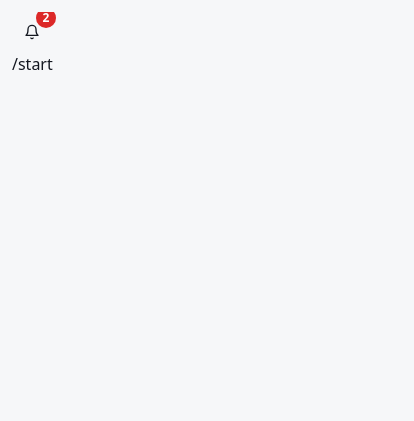
it: NotificationBell interactions › clicking an already-read notification navigates without re-marking
The width and height of the screenshot is (414, 421).
Click the button named "notifications".
click(32, 32)  # box [12,12,52,52]
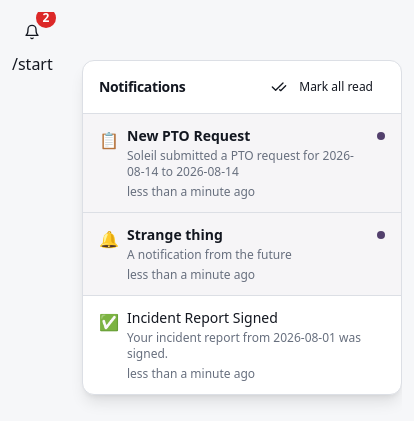
Click the text "Incident Report Signed".
click(202, 318)  # box [127,308,278,327]
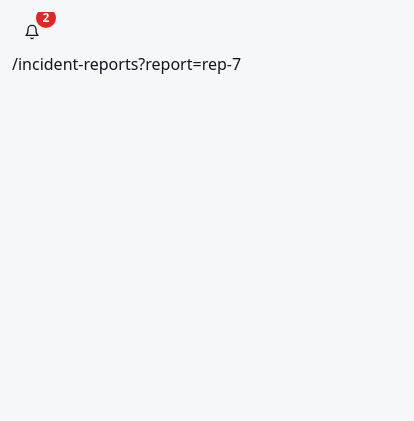
Now the text with test id "location" reads "/incident-reports?report=rep-7", box [12,53,241,75]
